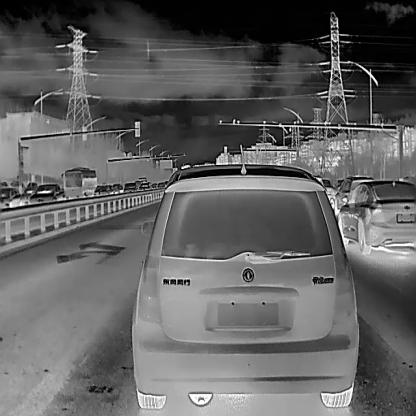bus: (60, 166, 97, 199)
car: (132, 162, 358, 408), (337, 179, 414, 256), (335, 176, 373, 214), (27, 184, 63, 203), (0, 188, 20, 210), (93, 184, 110, 194), (122, 182, 135, 192), (136, 181, 150, 189), (157, 181, 164, 188), (150, 182, 158, 188)
